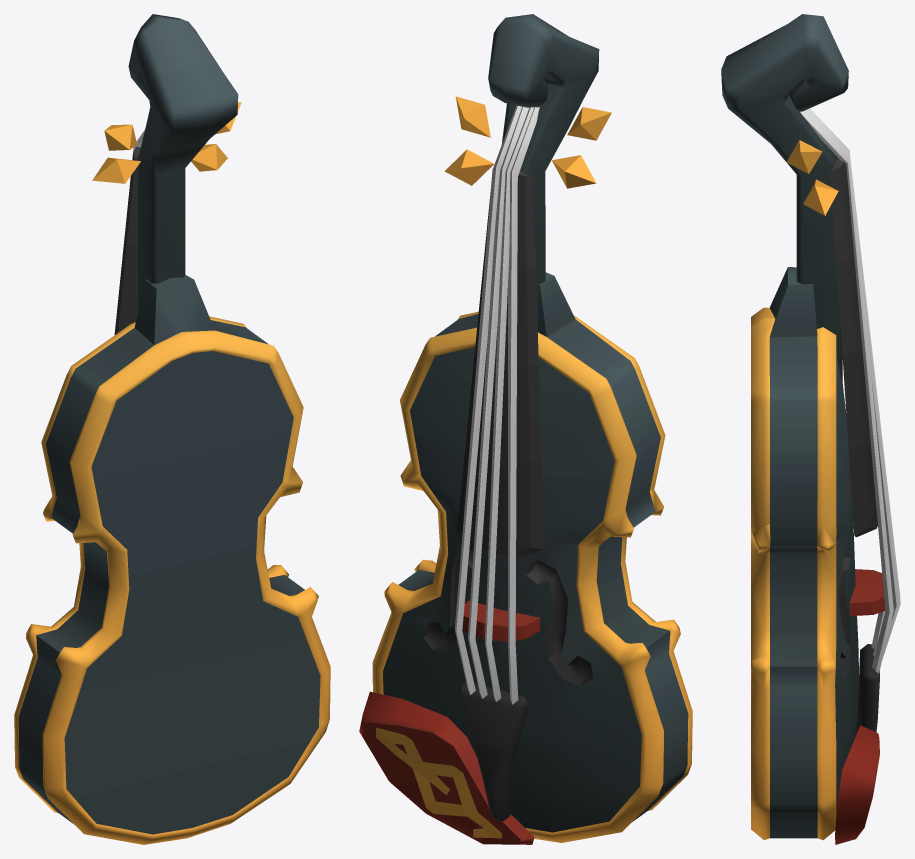
File: CharSkyKid_Prop_Violin.glb
3 renders of one model, left to right at view 1: azimuth 30°, elevation 25°; view 2: azimuth 150°, elevation 25°; view 3: azimuth 270°, elevation 25°, orthographic.
Visible parts, largest first — view 1: CharSkyKid_Prop_Violin; view 2: CharSkyKid_Prop_Violin; view 3: CharSkyKid_Prop_Violin.
Boxes of the visible parts, x1,y1,x2,y2 form: CharSkyKid_Prop_Violin: [14, 14, 330, 844]; CharSkyKid_Prop_Violin: [359, 14, 692, 844]; CharSkyKid_Prop_Violin: [721, 14, 900, 844].
Size of the model in its own units: 2.09 by 5.64 by 1.13.
1 material, 1 textured.
